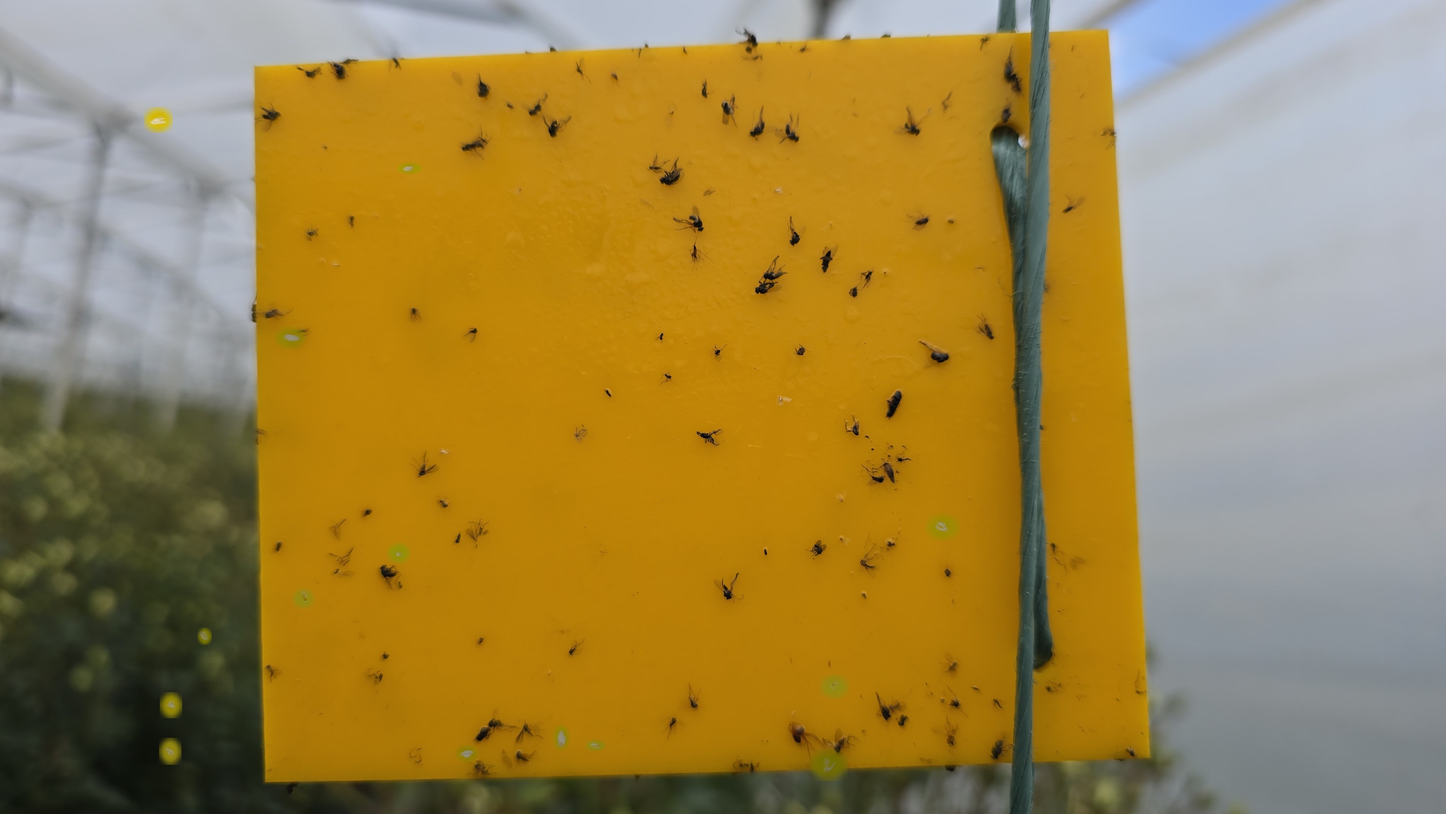WF: (815, 754, 842, 776), (930, 517, 955, 536), (279, 329, 301, 346), (148, 111, 168, 129), (824, 678, 844, 695), (162, 742, 178, 761), (775, 395, 795, 410), (163, 696, 179, 714), (390, 545, 407, 560), (295, 591, 311, 605), (555, 728, 567, 746), (459, 747, 475, 759), (400, 164, 418, 172), (200, 630, 210, 642), (440, 448, 452, 457), (589, 741, 602, 749), (774, 187, 784, 197)
